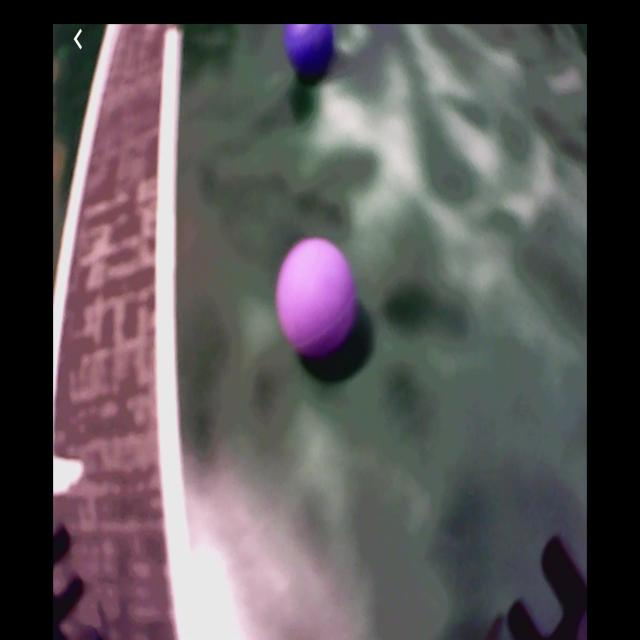ball: (277, 238, 357, 362), (284, 27, 335, 84)
